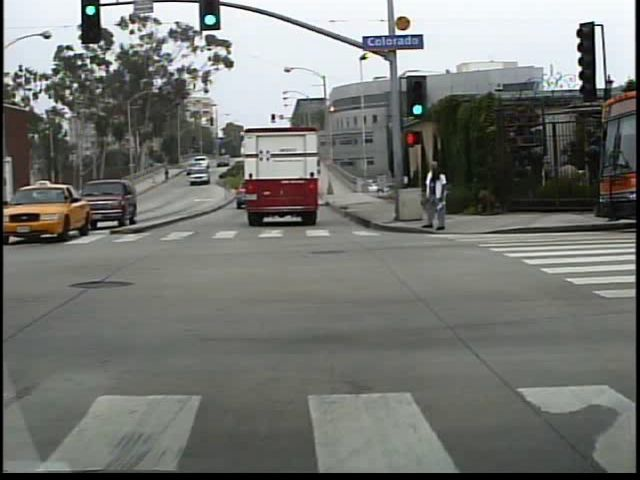person: (427, 158, 454, 235)
